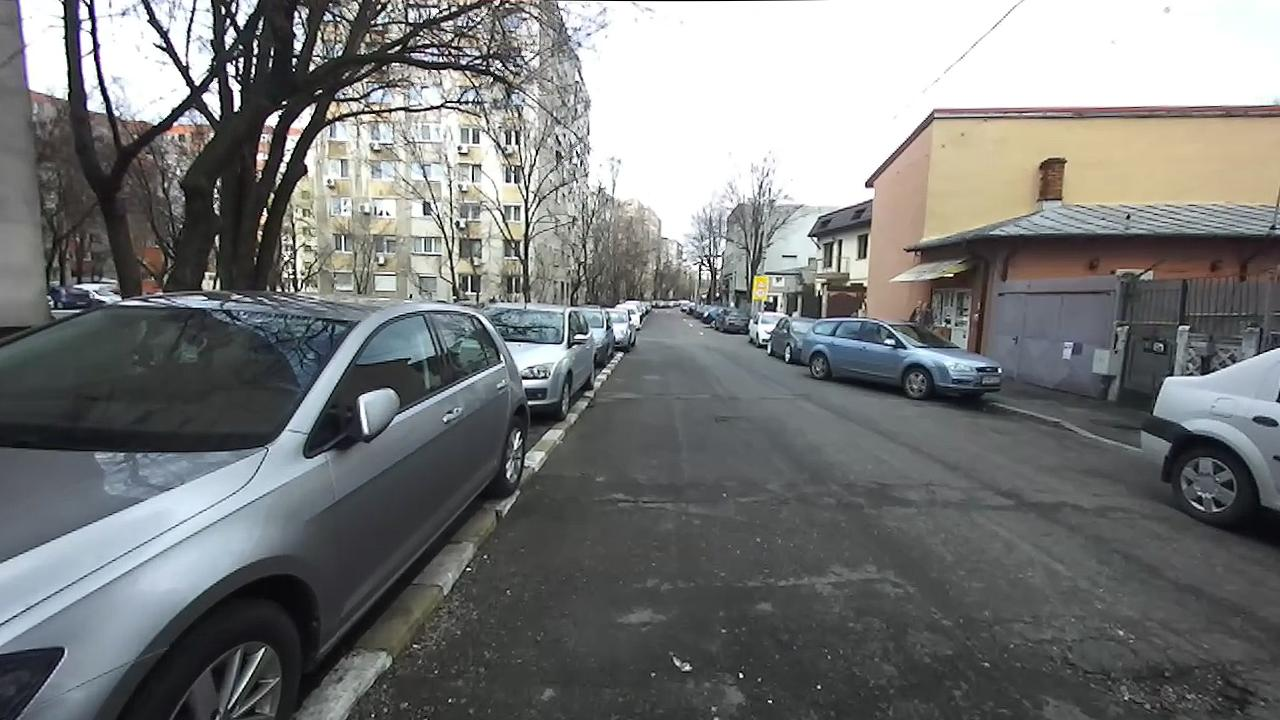pothole: (1066, 646, 1274, 714), (601, 489, 693, 511)
